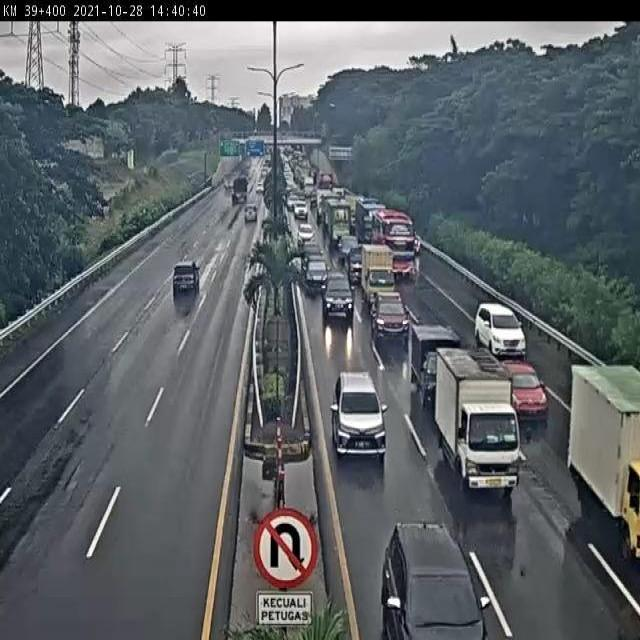big bus: (375, 205, 417, 267)
car: (378, 521, 489, 640), (326, 360, 382, 447), (471, 298, 524, 354), (501, 360, 548, 421), (370, 285, 405, 331), (164, 265, 197, 308), (320, 273, 350, 319)
small truck: (434, 341, 527, 495), (569, 365, 640, 547), (404, 314, 453, 386), (357, 239, 394, 304)
